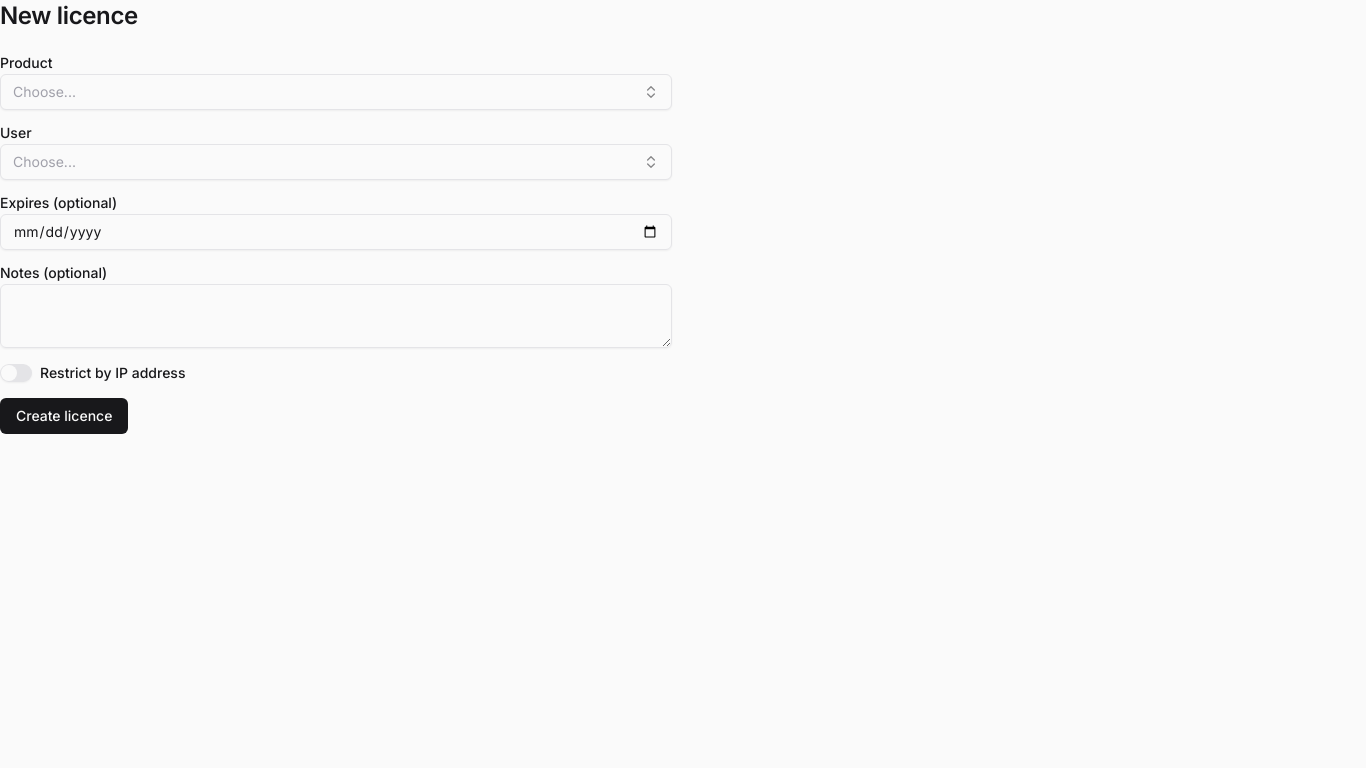
Test case: NewLicencePage › opens the quick-create user dialog and auto-selects the new user after Done
Expected: the button "Create licence" is shown, x1=0 y1=398 x2=128 y2=434
Click the dropdown labelled "Choose..." below "User": (44, 162) x1=0 y1=144 x2=672 y2=180
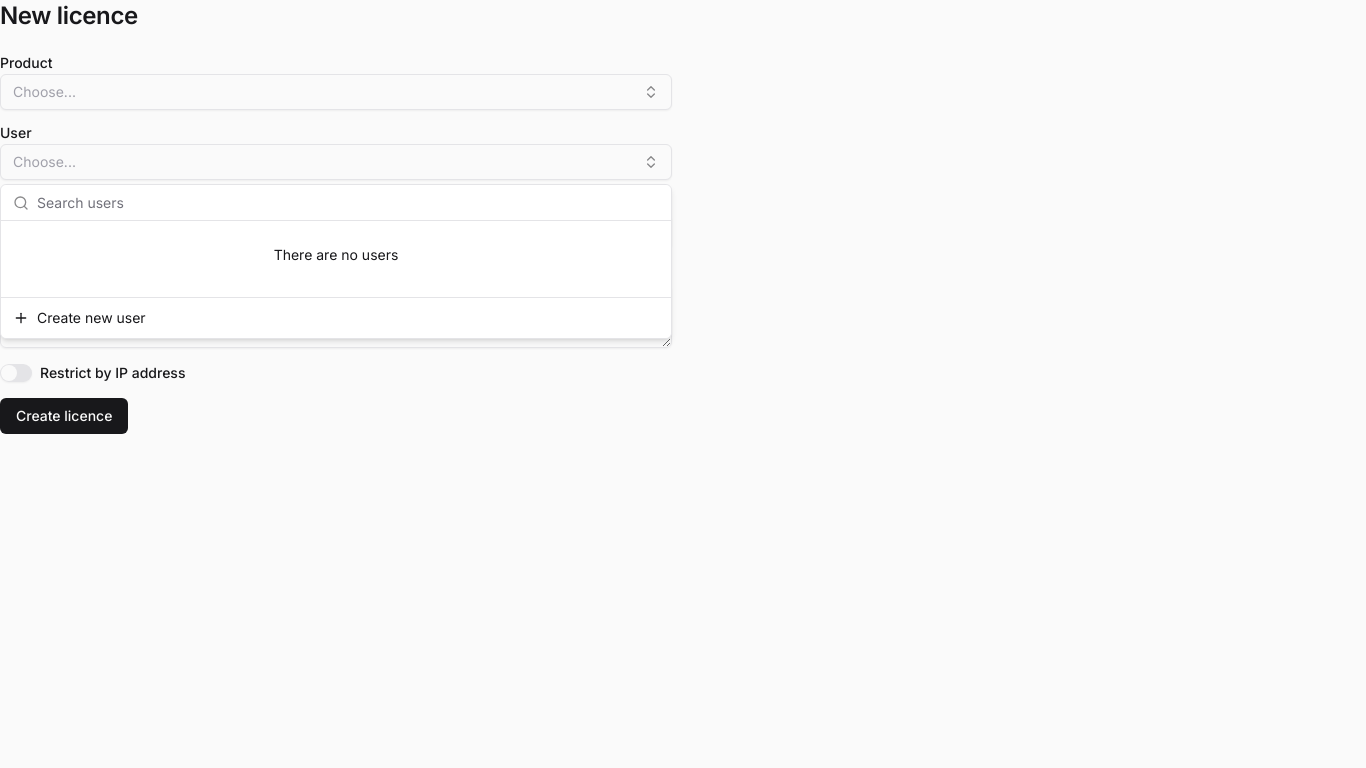
Click the button "Create new user": (91, 318) x1=5 y1=302 x2=667 y2=334
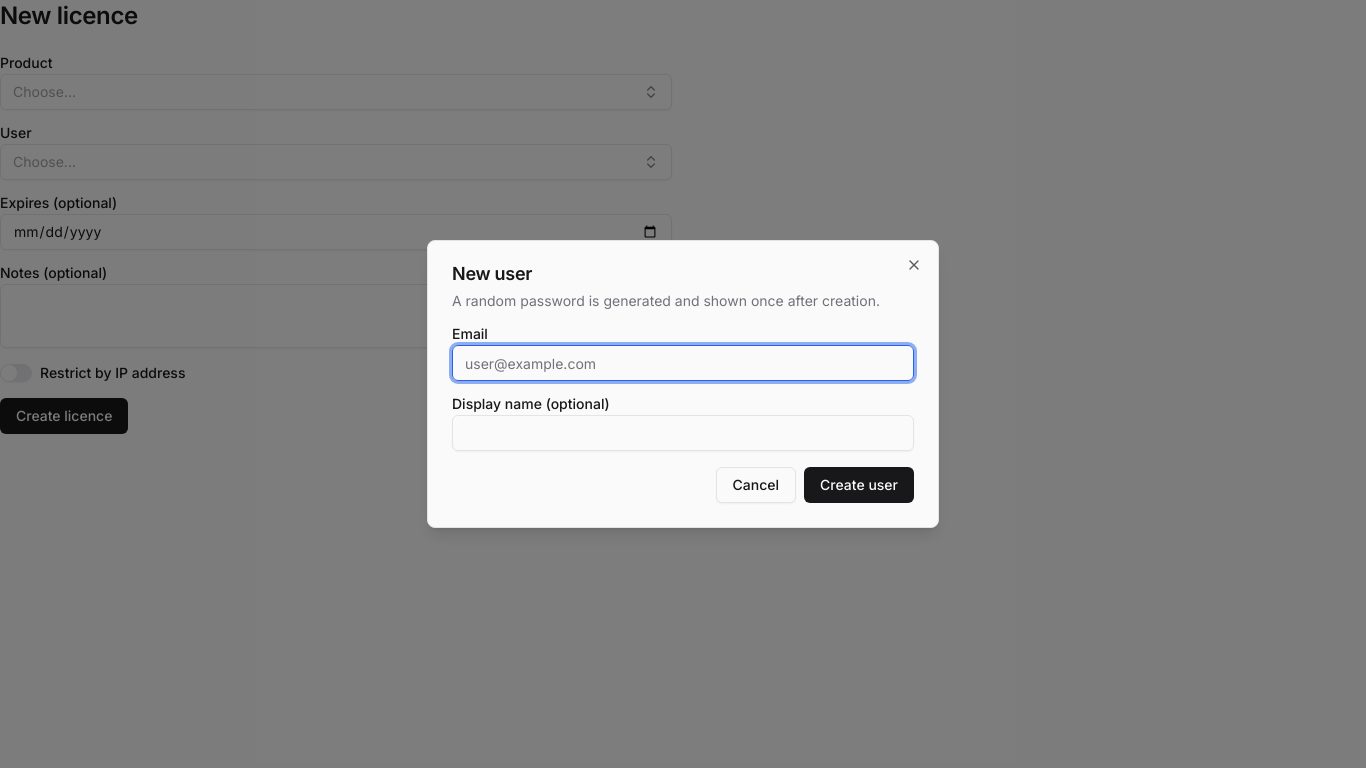
In the field labelled "Email": (683, 363) x1=452 y1=345 x2=914 y2=381, type "newbie@example.com"
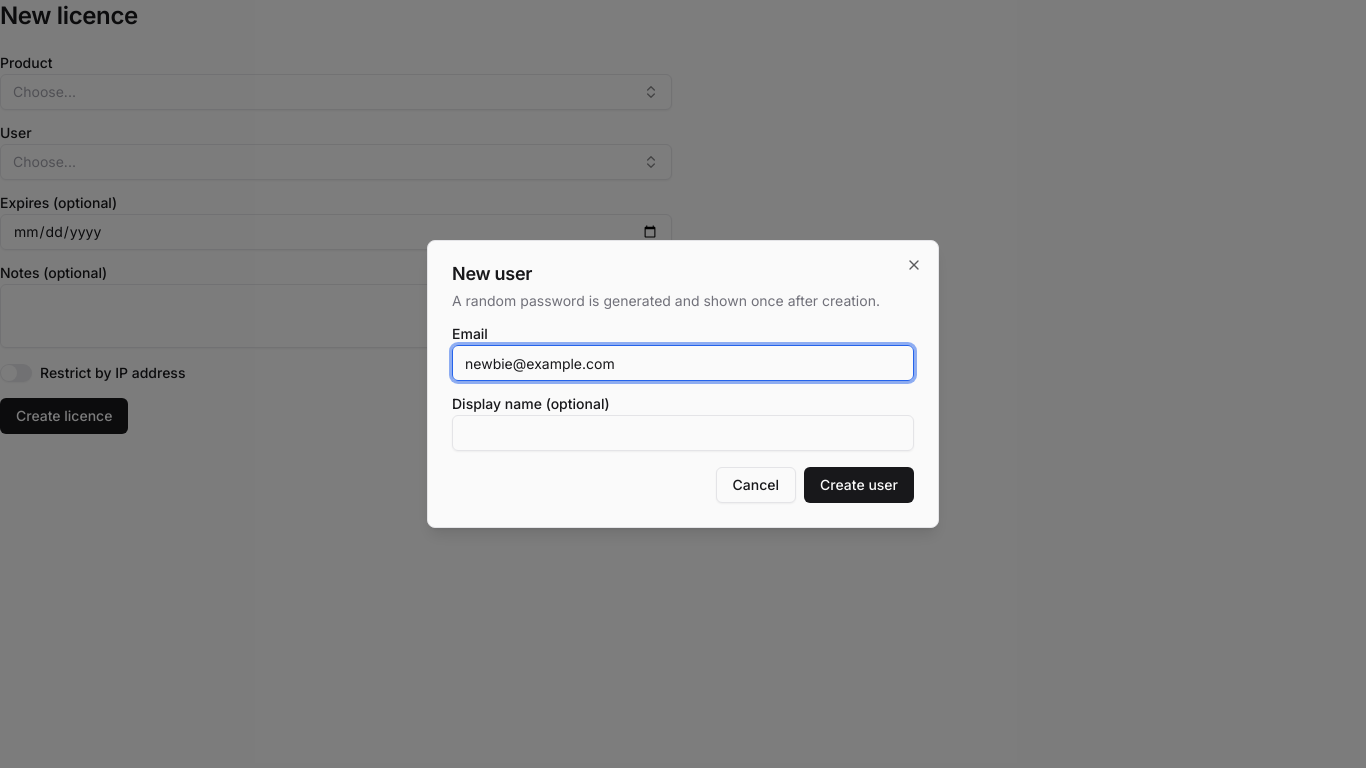
Click the button "Create user": (859, 485) x1=804 y1=467 x2=914 y2=503
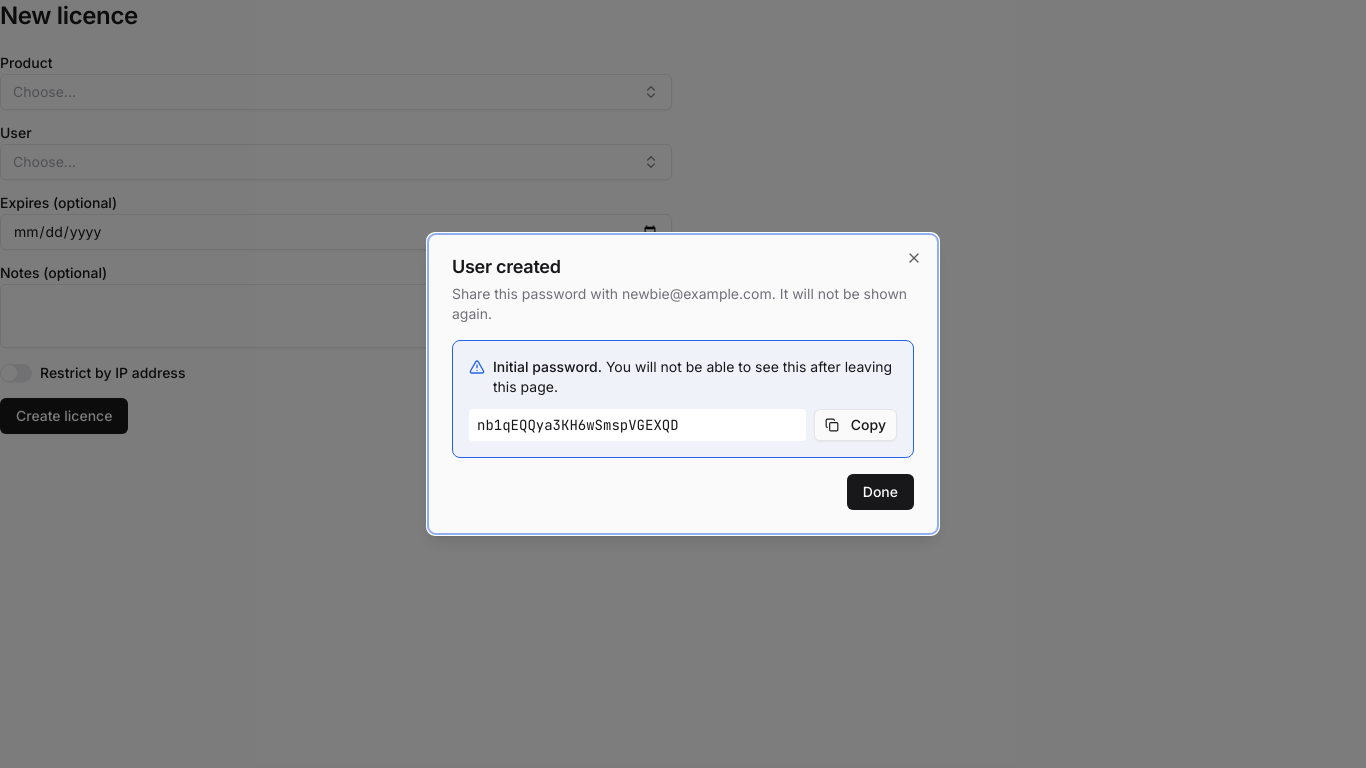
Click the button "Done": (880, 492) x1=847 y1=474 x2=914 y2=510
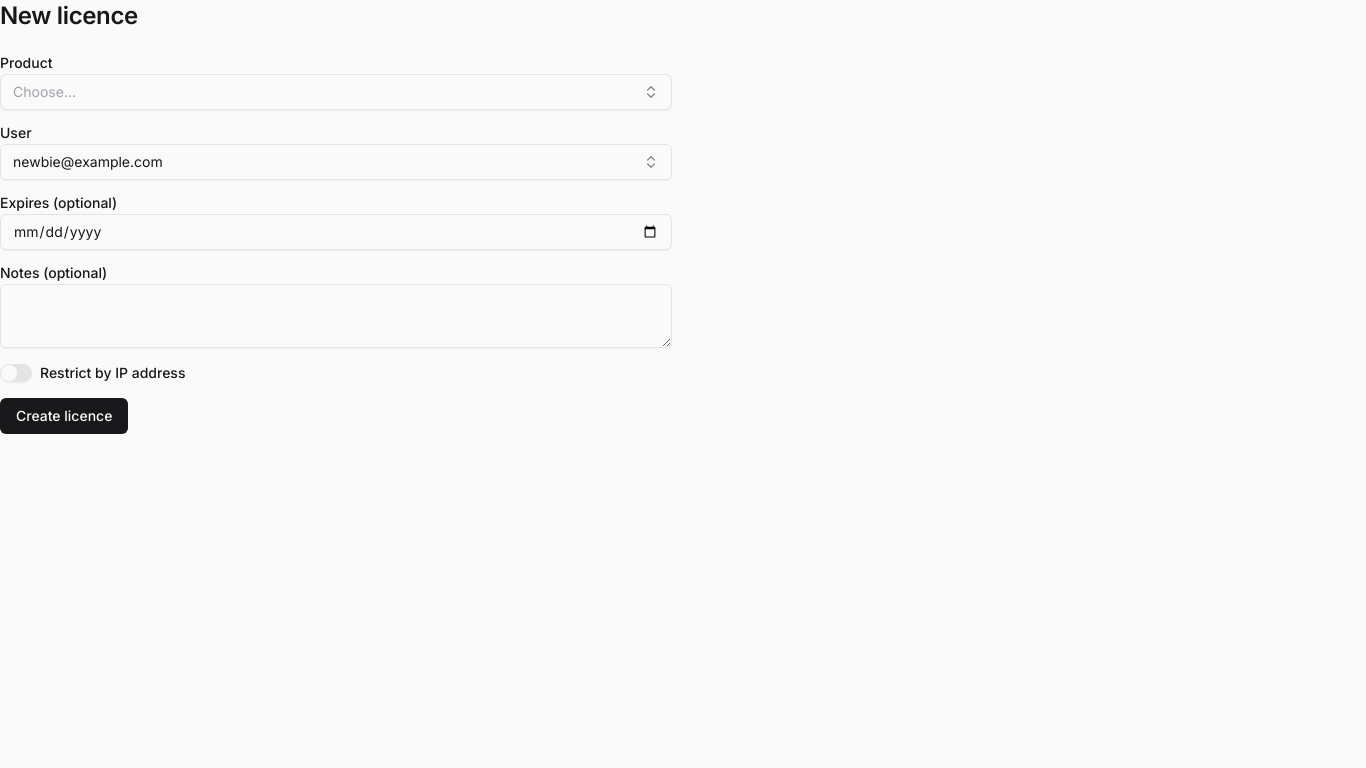
Expected: the dropdown labelled "newbie@example.com" is shown, x1=0 y1=144 x2=672 y2=180
